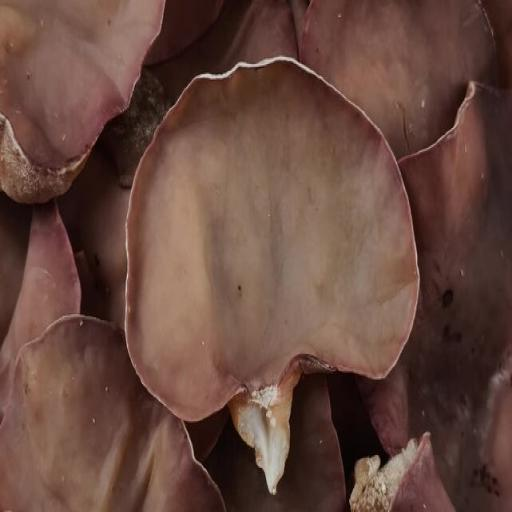Wood Ear Mushroom: (114, 59, 418, 480), (352, 95, 511, 512), (0, 298, 229, 512), (275, 0, 508, 182), (0, 0, 169, 203)
